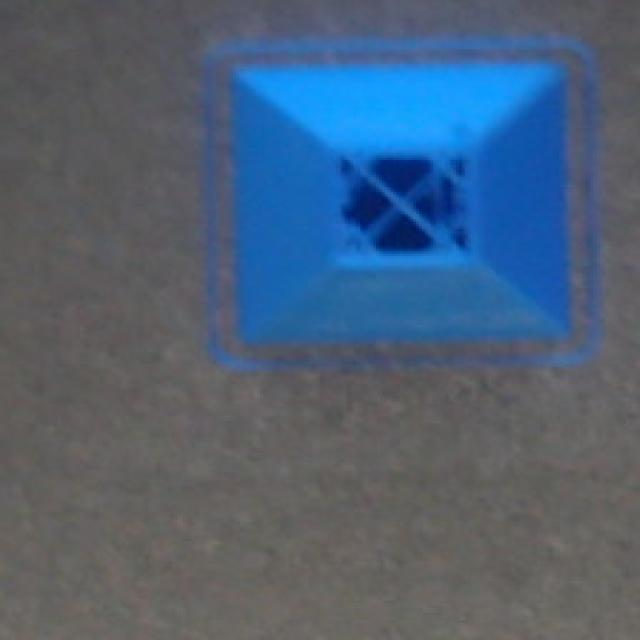mistake: (208, 37, 596, 364)
